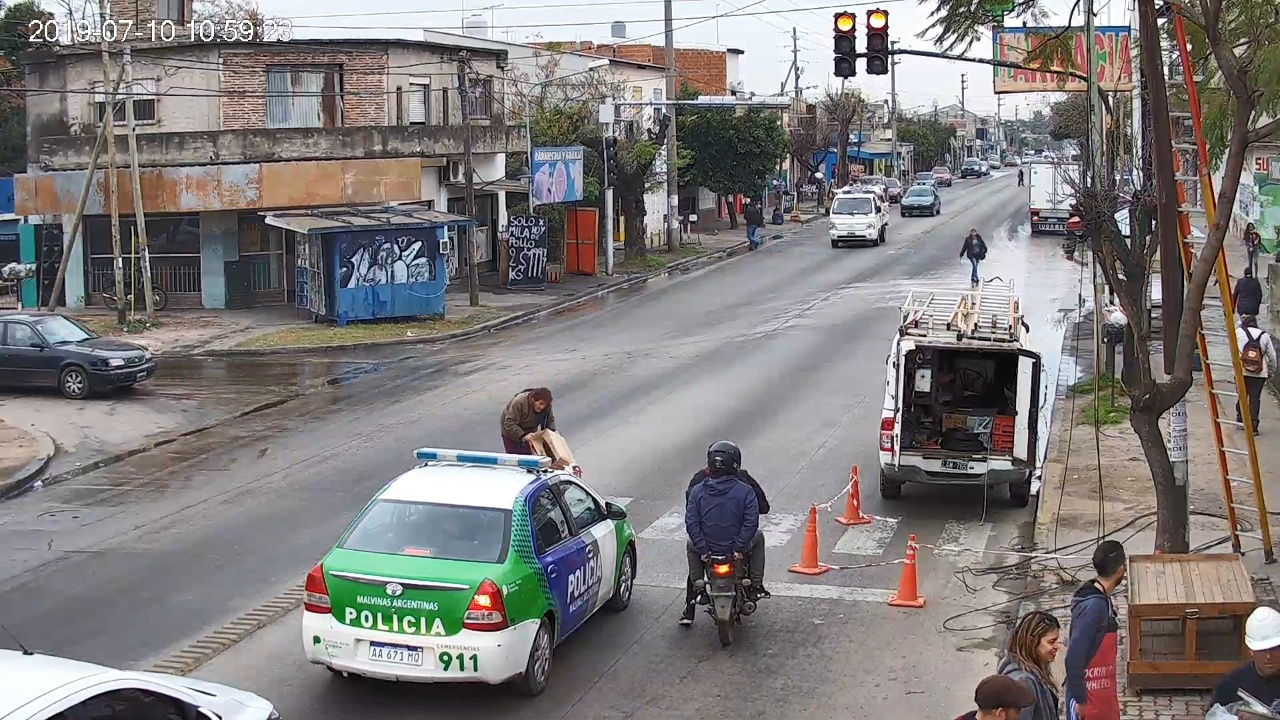car: (1, 646, 279, 720)
motorcycle: (679, 479, 772, 645)
police car: (304, 446, 637, 696)
traffic light: (835, 13, 856, 77), (867, 10, 888, 74)
